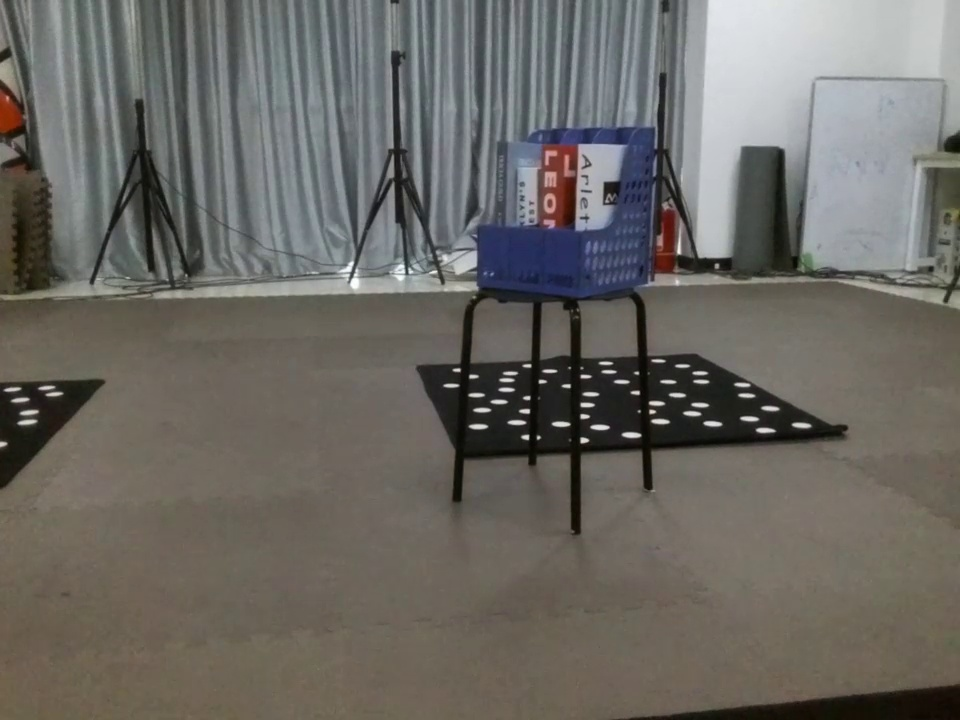files: (470, 120, 665, 304)
